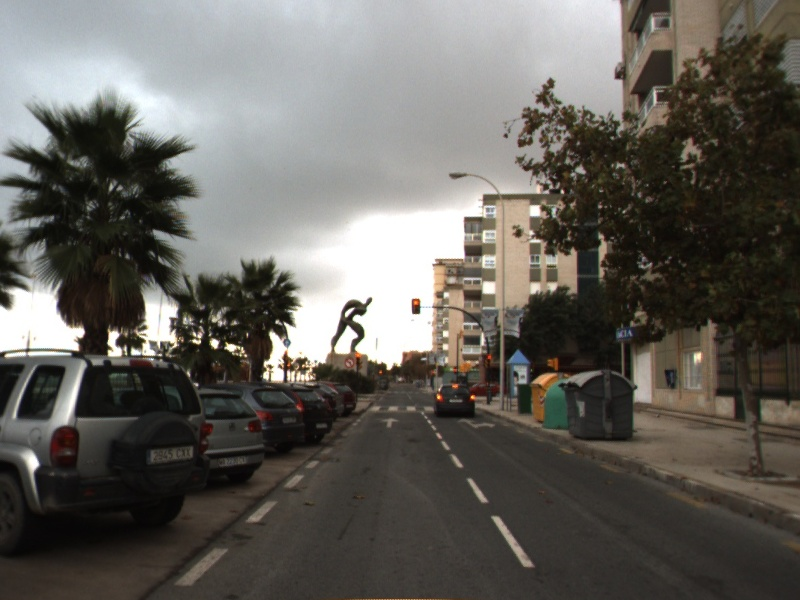STRAIGHT: (380, 416, 401, 430)
STRAIGHT_RIGHT: (456, 416, 497, 431)
